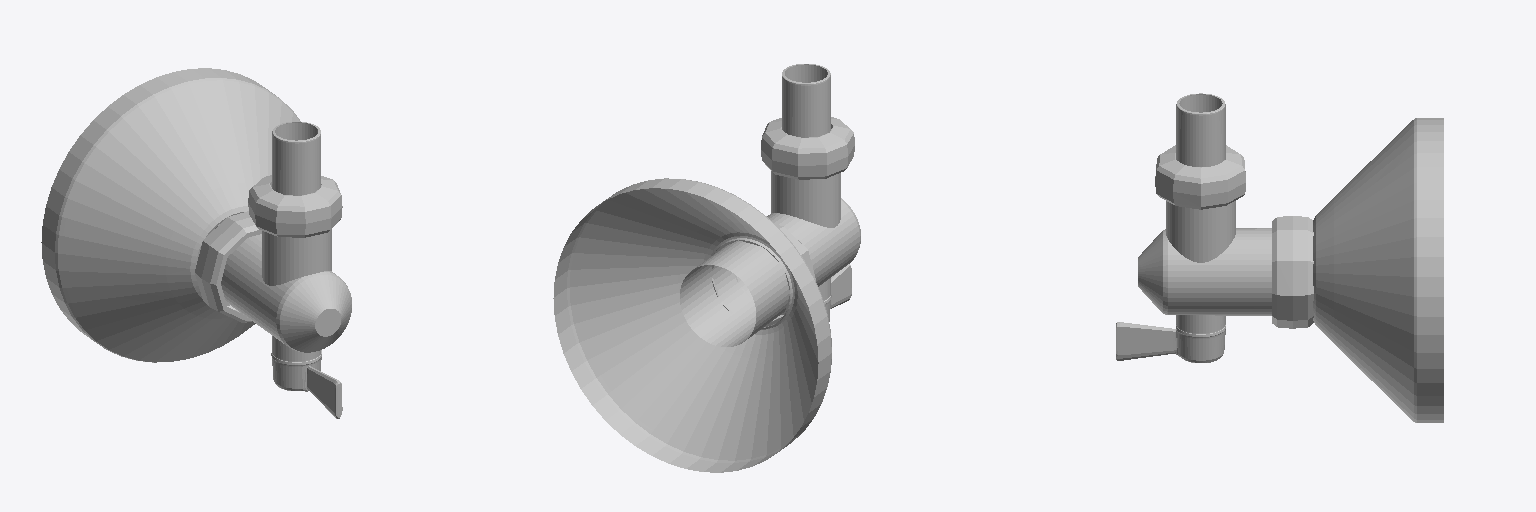
The model's file is sink_valve2.obj.
The picture shows the model from 3 angles: view 1: azimuth 30°, elevation 25°; view 2: azimuth 150°, elevation 25°; view 3: azimuth 270°, elevation 25°; orthographic projection.
Parts seen in each view (by area): view 1: Valve_02; view 2: Valve_02; view 3: Valve_02.
Part boxes in pixels (bbox=[...]): Valve_02: bbox=[41, 68, 351, 418]; Valve_02: bbox=[553, 64, 860, 472]; Valve_02: bbox=[1116, 93, 1443, 422].
Bounding box in the file's own units: 13.4 × 14.8 × 14.36.